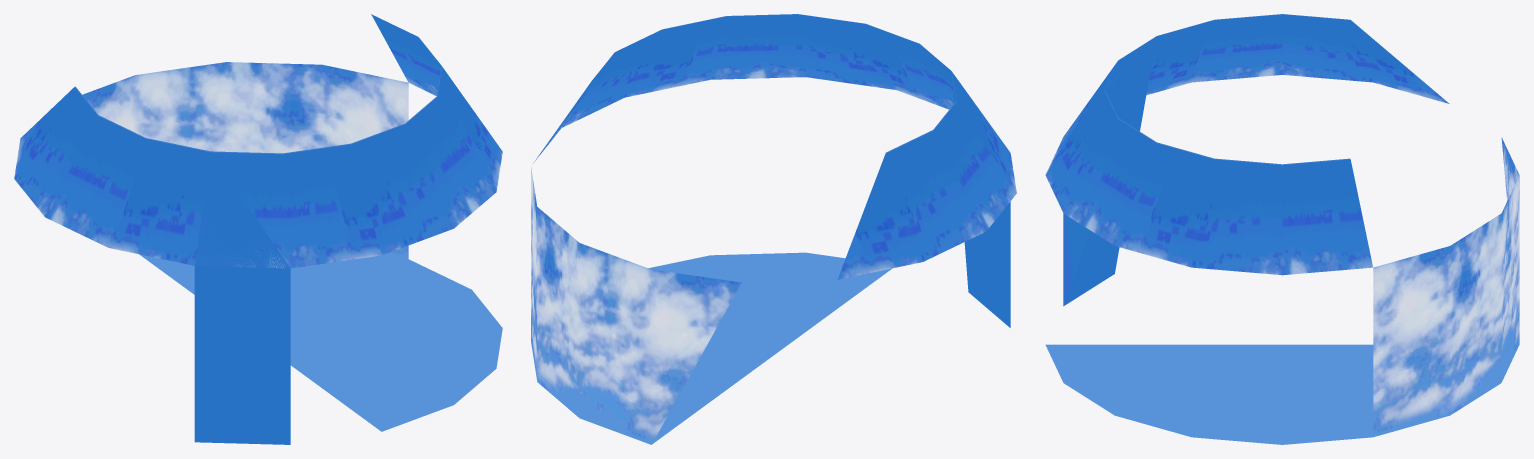
Rendered from sky-forest-01.obj.
The picture shows the model from 3 angles, left to right: view 1: azimuth 30°, elevation 25°; view 2: azimuth 150°, elevation 25°; view 3: azimuth 270°, elevation 25°; orthographic projection. The views are drawn at different scales.
Visible parts, largest first — view 1: mesh_sky_0; view 2: mesh_sky_0; view 3: mesh_sky_0.
Part boxes in pixels (x1,y1,x2,y2): mesh_sky_0: (14,14,502,444); mesh_sky_0: (531,14,1016,444); mesh_sky_0: (1045,14,1519,444).
Bounding box in the file's own units: 200 × 119 × 200.
1 material, 1 textured.
